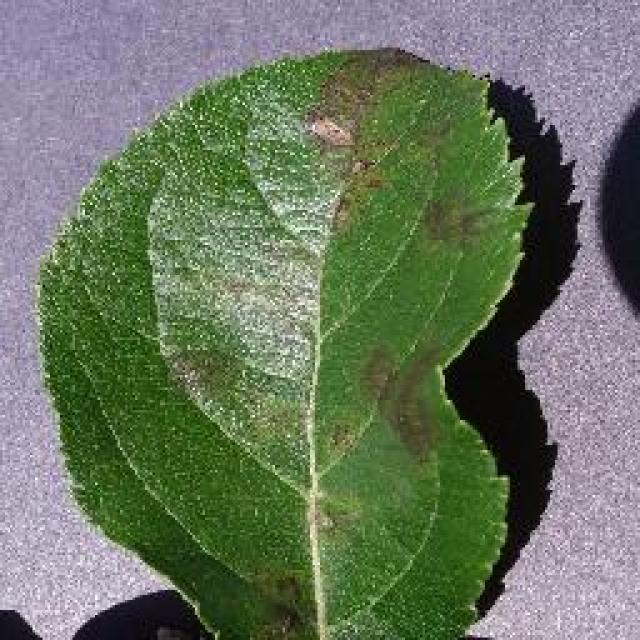apple scab disease: (32, 42, 542, 638)
